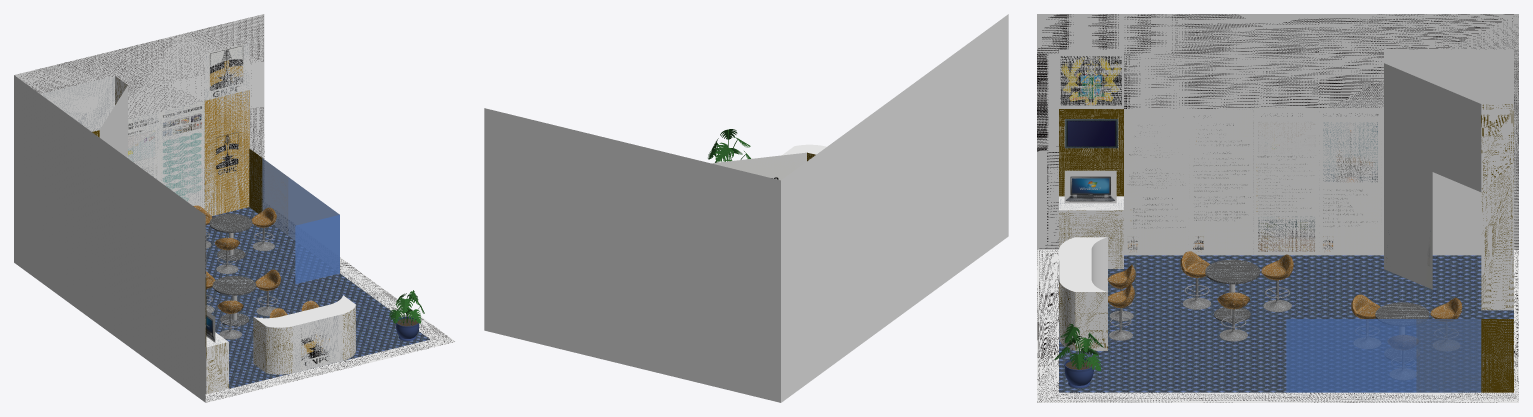
3 views of the same model, side by side, from view 1: azimuth 30°, elevation 25°; view 2: azimuth 150°, elevation 25°; view 3: azimuth 270°, elevation 25° (orthographic). The views are drawn at different scales.
Visible parts, largest first — view 1: SketchUp (×12), image_13, image_12, image_3, High_Boy_cocktail_tables (×2), image_11, image_10; view 2: SketchUp (×2), image_9; view 3: SketchUp (×14), image_5, image_7, image_6, image_4, image_2, bar-chair- (×5), High_Boy_cocktail_tables (×2), image_0, image_1.
Part boxes in pixels (x1,y1,x2,y2): SketchUp (×12): (14,14,455,402); image_13: (204,90,249,215); image_12: (159,101,204,206); image_3: (208,44,243,99); High_Boy_cocktail_tables (×2): (209,213,256,295); image_11: (128,112,159,180); image_10: (300,325,332,368); SketchUp (×2): (484,14,1008,402); image_9: (711,153,806,180); SketchUp (×14): (1037,14,1518,402); image_5: (1189,109,1253,255); image_7: (1319,108,1381,255); image_6: (1254,108,1318,255); image_4: (1124,110,1188,255); image_2: (1060,56,1121,105); bar-chair- (×5): (1182,251,1459,321); High_Boy_cocktail_tables (×2): (1205,259,1429,326); image_0: (1064,170,1116,203); image_1: (1064,119,1118,148).
Size of the model in its own units: 220 by 292 by 158.
32 materials, 14 textured.
